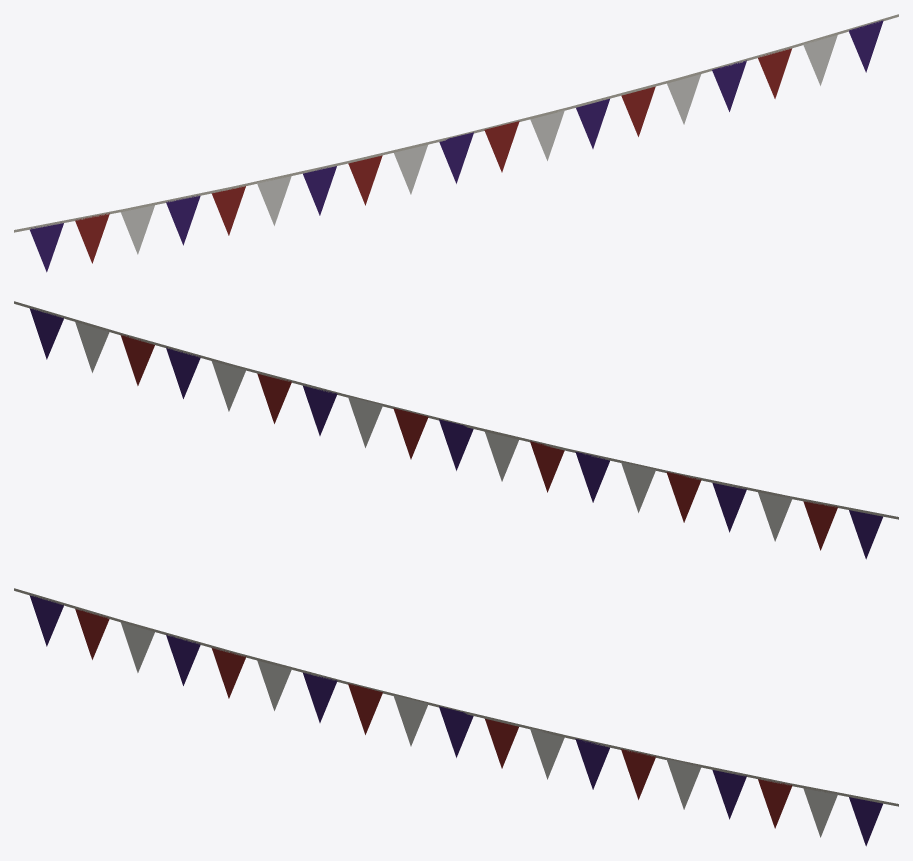
Rendered from board.pennants.school.glb.
The picture shows the model from 3 angles, top to bottom: view 1: azimuth 30°, elevation 25°; view 2: azimuth 150°, elevation 25°; view 3: azimuth 330°, elevation 25°; orthographic projection.
Visible parts, largest first — view 1: board_pennants_school; view 2: board_pennants_school; view 3: board_pennants_school.
Boxes of the visible parts, x1,y1,x2,y2 form: board_pennants_school: (14, 14, 898, 272); board_pennants_school: (14, 301, 898, 559); board_pennants_school: (14, 588, 898, 846).
Size of what is drawn, in the model's own units: 7 by 0.47 by 0.
